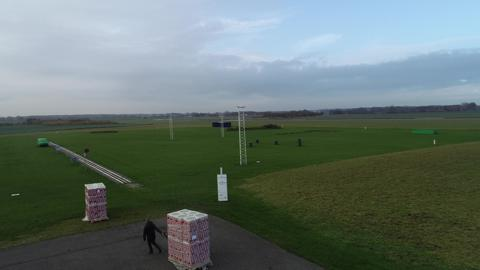RockwoolPallet: (84, 180, 108, 223)
